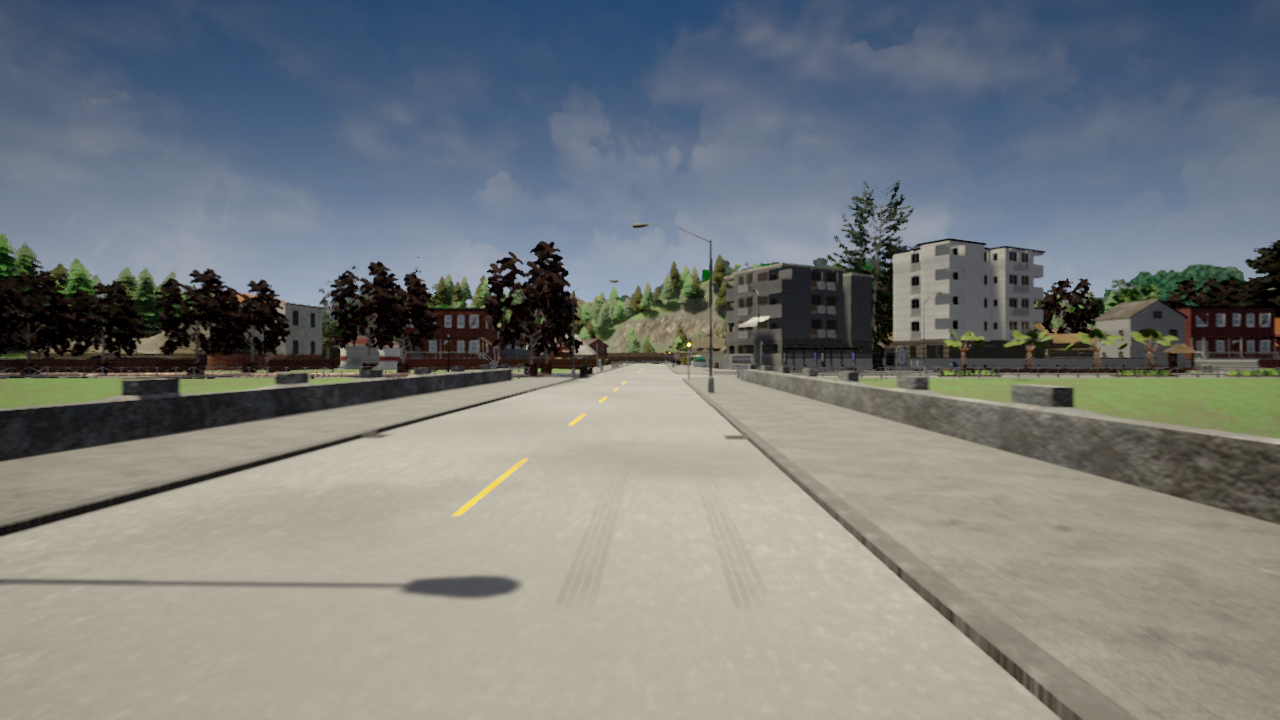yellow: (685, 339, 692, 353)
